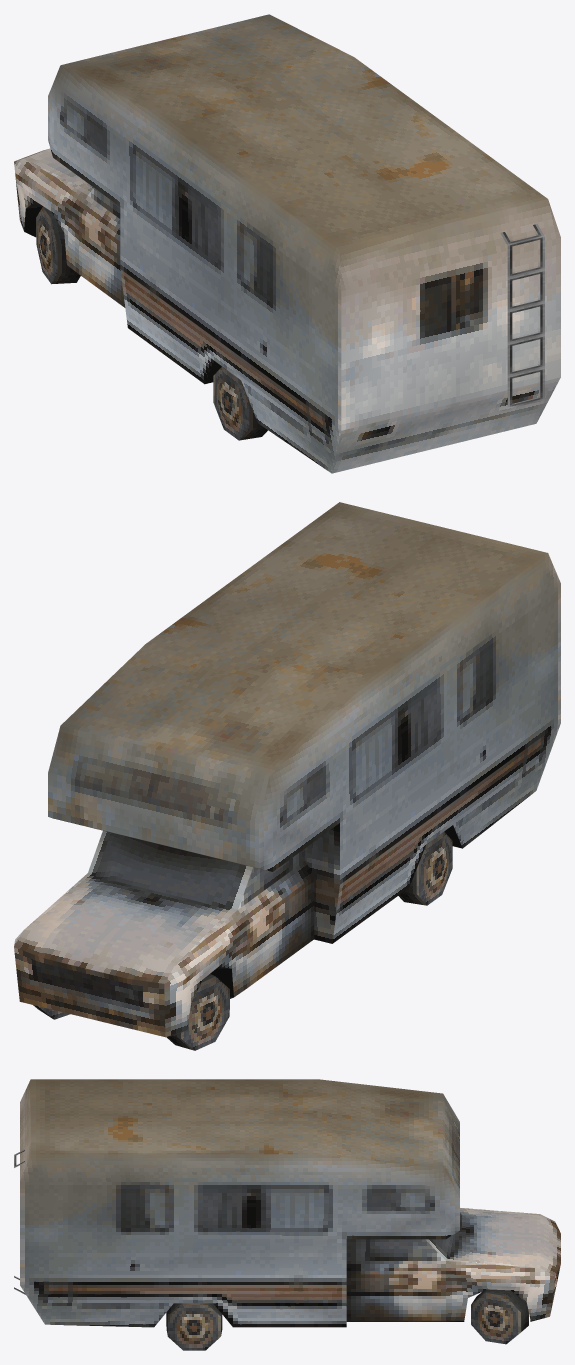
3 views of the same model, one above another, from view 1: azimuth 30°, elevation 25°; view 2: azimuth 150°, elevation 25°; view 3: azimuth 270°, elevation 25° (orthographic). The views are drawn at different scales.
Parts seen in each view (by area): view 1: subframe.001_0, subframe.002_1; view 2: subframe.001_0; view 3: subframe.001_0.
Boxes of the visible parts, bbox=[...] form: subframe.001_0: bbox=[14, 14, 560, 473]; subframe.002_1: bbox=[499, 224, 544, 411]; subframe.001_0: bbox=[14, 502, 560, 1050]; subframe.001_0: bbox=[20, 1079, 560, 1350].
Size of the model in its own units: 3.8 by 4.44 by 11.08.
Materials: 2 (2 with a texture image).
